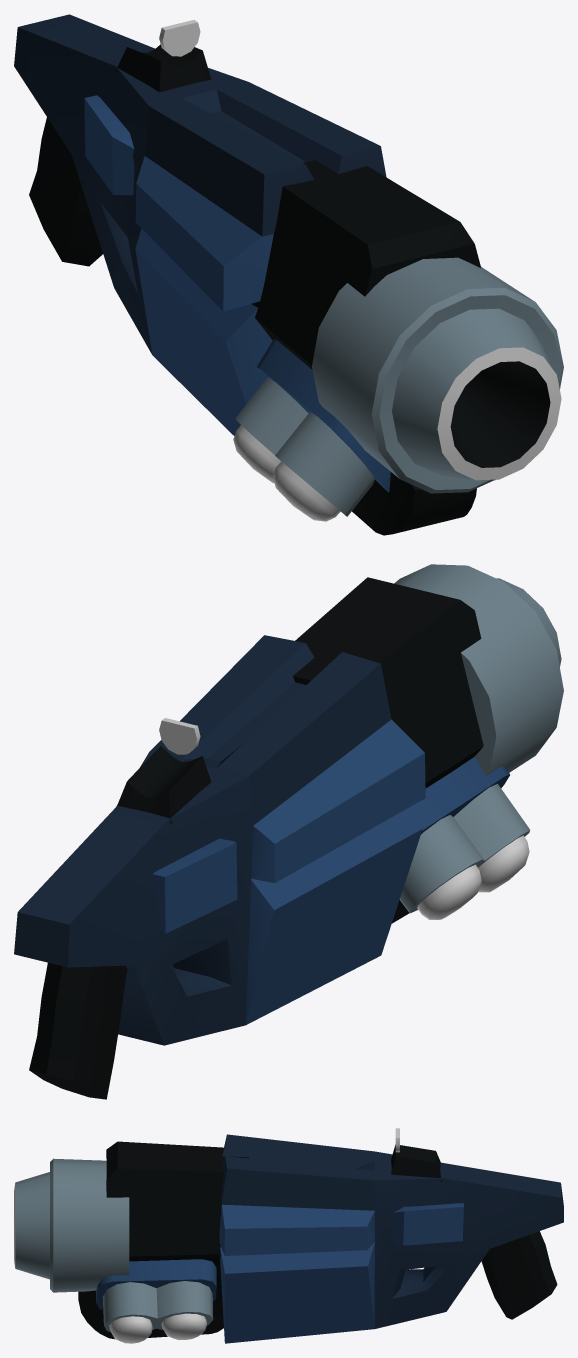
The model's file is spaceSoldierBlaster.obj.
The picture shows the model from 3 angles, top to bottom: view 1: azimuth 30°, elevation 25°; view 2: azimuth 150°, elevation 25°; view 3: azimuth 270°, elevation 25°; orthographic projection. The views are drawn at different scales.
Visible parts, largest first — view 1: spaceSoldierBlaster_Cube.5751; view 2: spaceSoldierBlaster_Cube.5751; view 3: spaceSoldierBlaster_Cube.5751.
Part boxes in pixels (x1,y1,x2,y2): spaceSoldierBlaster_Cube.5751: [14, 14, 563, 535]; spaceSoldierBlaster_Cube.5751: [14, 564, 563, 1099]; spaceSoldierBlaster_Cube.5751: [14, 1128, 563, 1343].
Bounding box in the file's own units: 0.3649 × 0.463 × 1.18.
